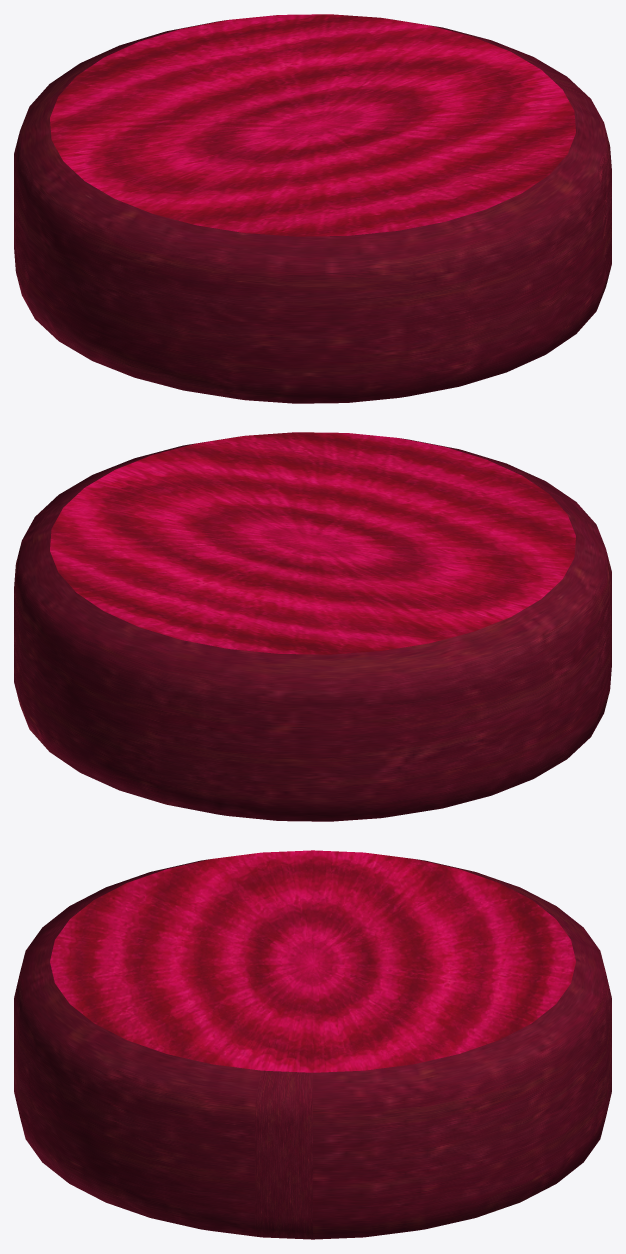
File: beet_slice-DjY8E2No.glb
3 views of the same model, one above another, from view 1: azimuth 30°, elevation 25°; view 2: azimuth 150°, elevation 25°; view 3: azimuth 270°, elevation 25° (orthographic).
Visible parts, largest first — view 1: FLC_beet_slice; view 2: FLC_beet_slice; view 3: FLC_beet_slice.
Part boxes in pixels (<box>): FLC_beet_slice: <box>14,14,611,403</box>; FLC_beet_slice: <box>14,432,611,821</box>; FLC_beet_slice: <box>14,850,611,1239</box>.
Bounding box in the file's own units: 0.26 × 0.08 × 0.26.
1 material, 1 textured.
